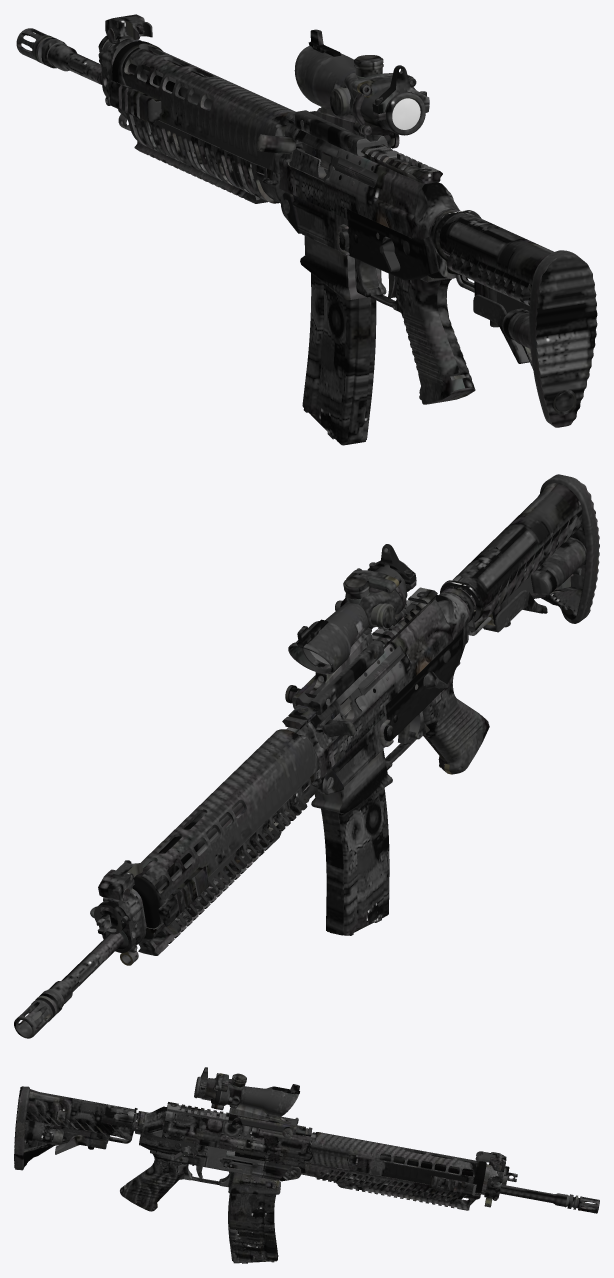
The picture shows the model from 3 angles, top to bottom: view 1: azimuth 30°, elevation 25°; view 2: azimuth 150°, elevation 25°; view 3: azimuth 270°, elevation 25°; orthographic projection. The views are drawn at different scales.
Parts seen in each view (by area): view 1: p_sg552; view 2: p_sg552; view 3: p_sg552.
Part boxes in pixels (left/top/right/bottom): p_sg552: left=16, top=14, right=597, bottom=445; p_sg552: left=14, top=474, right=599, bottom=1038; p_sg552: left=14, top=1067, right=599, bottom=1263.
Bounding box in the file's own units: 0.1176 × 0.4425 × 1.19.
Materials: 2 (2 with a texture image).
